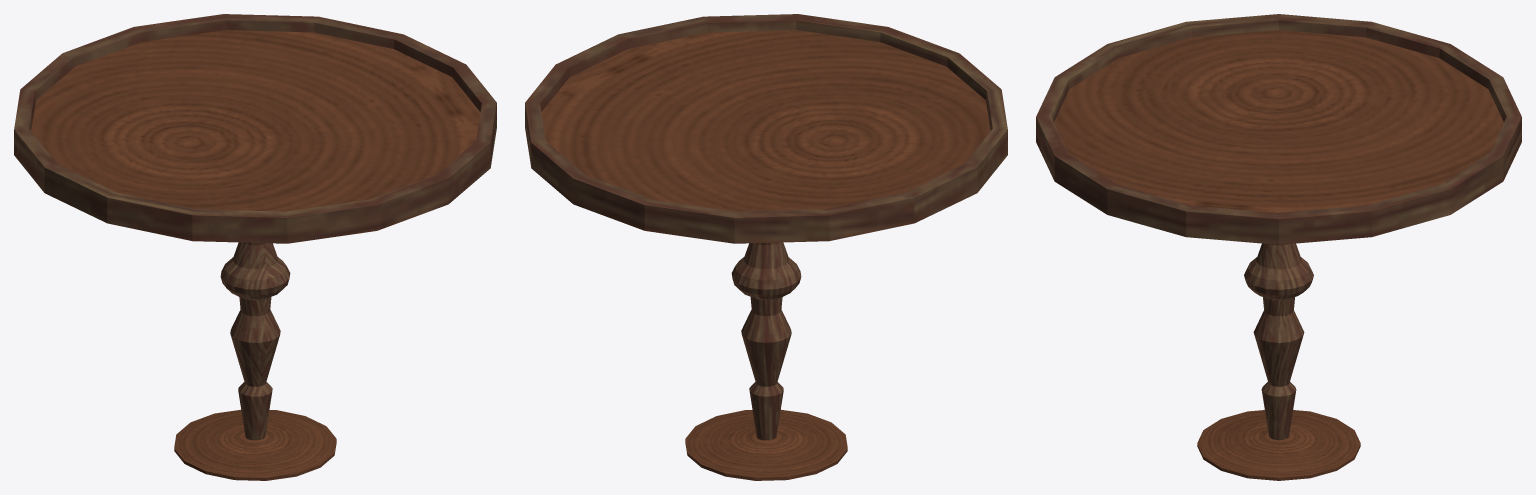
Rendered from MKU_table_side_fin.fbx.
3 renders of one model, left to right at view 1: azimuth 30°, elevation 25°; view 2: azimuth 150°, elevation 25°; view 3: azimuth 270°, elevation 25°, orthographic.
Visible parts, largest first — view 1: side table; view 2: side table; view 3: side table.
Boxes of the visible parts, left/top/right/bottom form: side table: left=14, top=14, right=496, bottom=480; side table: left=525, top=14, right=1007, bottom=480; side table: left=1036, top=14, right=1521, bottom=480.
Bounding box in the file's own units: 200 × 150 × 200.
